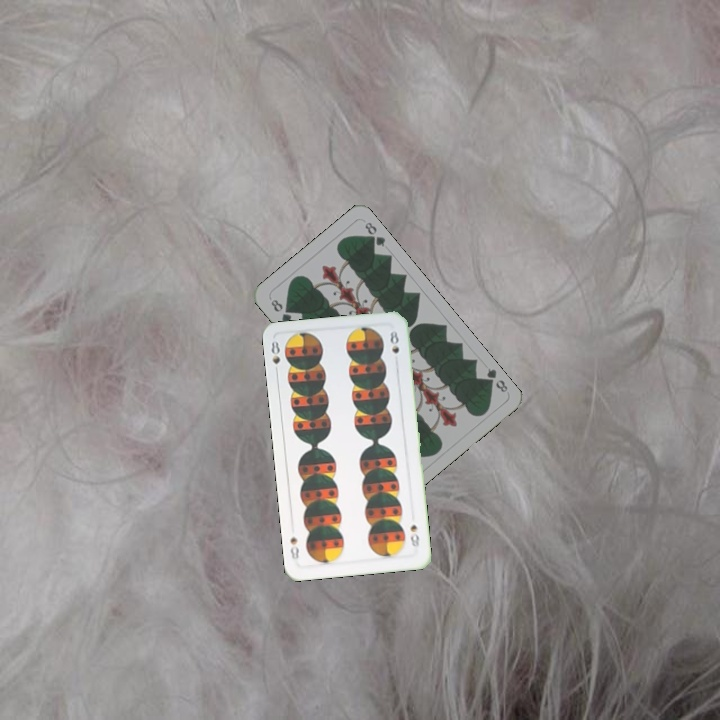G8: (480, 364, 510, 395), (267, 295, 294, 327)
S8: (267, 337, 283, 377), (406, 521, 422, 549)
